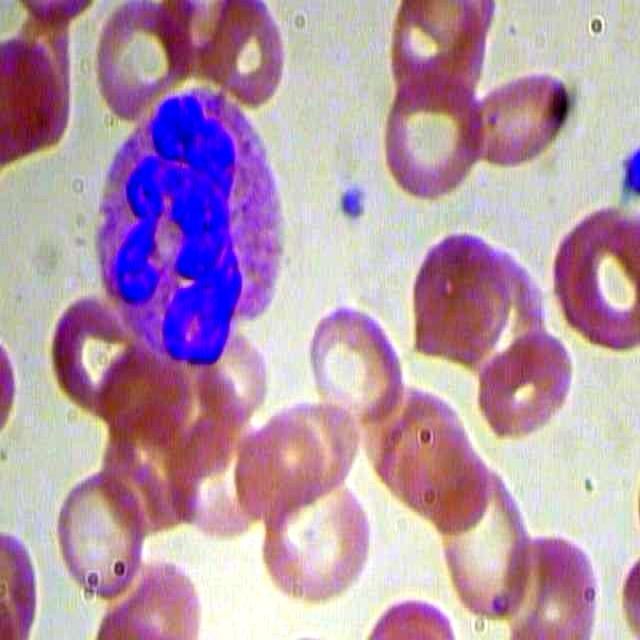Platelets: (336, 181, 371, 223)
RBC: (420, 453, 544, 624), (405, 220, 519, 375), (249, 469, 372, 612), (299, 298, 412, 430), (43, 466, 156, 598), (375, 74, 488, 205), (549, 200, 640, 357), (85, 1, 192, 128), (469, 54, 580, 174), (477, 319, 578, 437)
WBC: (73, 84, 304, 377)
